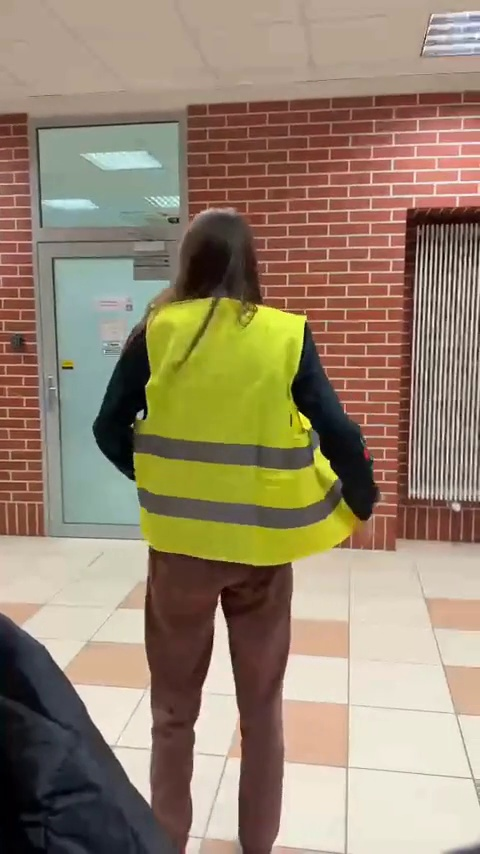vest: (89, 207, 386, 854)
